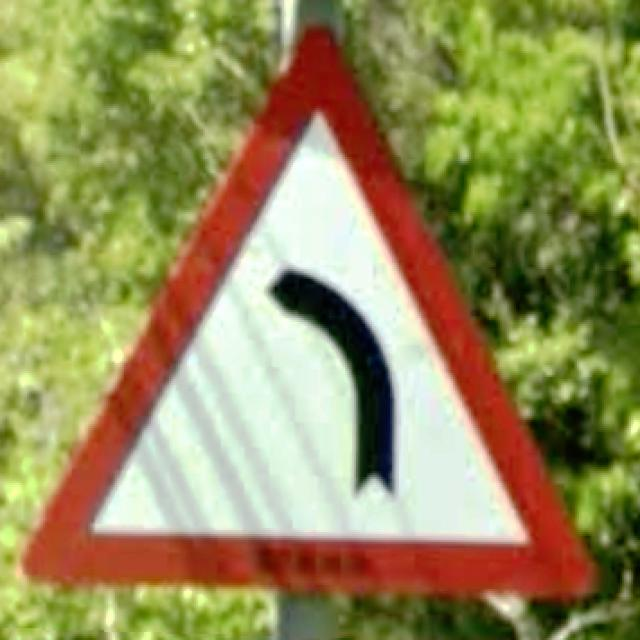leftbend: (18, 24, 599, 599)
